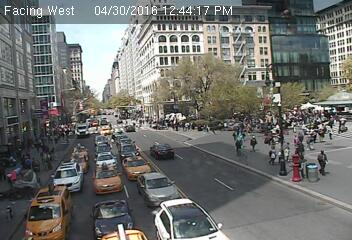neg: (152, 31, 172, 58), (94, 27, 113, 53), (115, 139, 133, 163), (157, 193, 174, 215), (40, 24, 56, 46), (144, 142, 160, 163), (210, 170, 226, 190), (38, 204, 53, 225), (32, 97, 46, 116), (177, 137, 191, 156), (197, 33, 211, 51), (109, 199, 122, 217), (63, 46, 75, 63), (223, 22, 235, 38), (179, 34, 191, 49), (332, 90, 344, 105), (202, 111, 213, 127), (81, 32, 92, 47), (11, 92, 22, 107), (304, 39, 315, 53)
pos: (314, 148, 335, 176), (26, 156, 47, 184), (232, 132, 251, 158), (281, 141, 297, 163), (265, 145, 280, 166), (247, 134, 260, 152), (326, 124, 339, 142), (62, 127, 73, 143), (179, 120, 189, 132), (107, 122, 112, 129)
